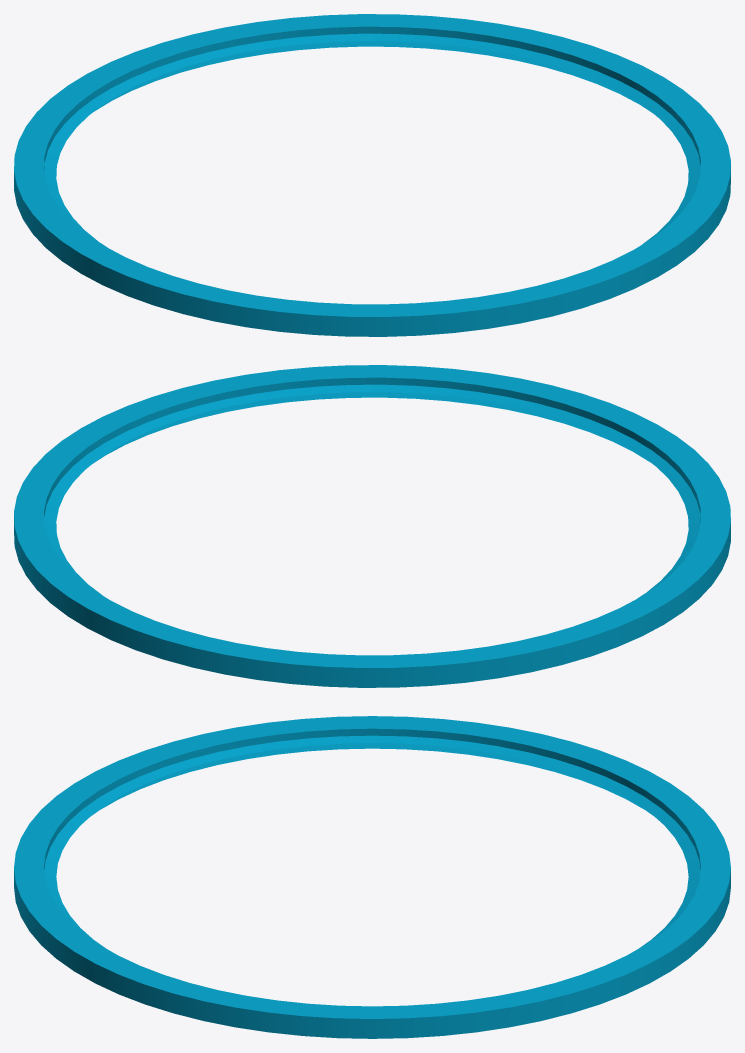
Rendered from 02-Gauge-Cover.fbx.
3 renders of one model, top to bottom at view 1: azimuth 30°, elevation 25°; view 2: azimuth 150°, elevation 25°; view 3: azimuth 270°, elevation 25°, orthographic.
Visible parts, largest first — view 1: 02-Gauge-Cover; view 2: 02-Gauge-Cover; view 3: 02-Gauge-Cover.
Part boxes in pixels (left/top/right/bottom): 02-Gauge-Cover: left=14, top=14, right=730, bottom=336; 02-Gauge-Cover: left=14, top=365, right=730, bottom=687; 02-Gauge-Cover: left=14, top=716, right=730, bottom=1038.
Size of the model in its own units: 223 by 6.82 by 223.
